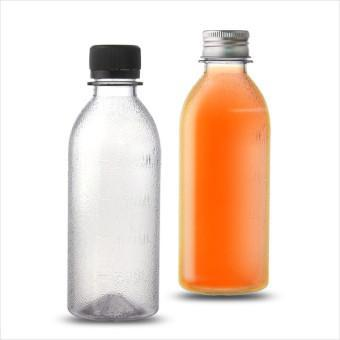bottle: (66, 45, 159, 320), (179, 30, 269, 295)
